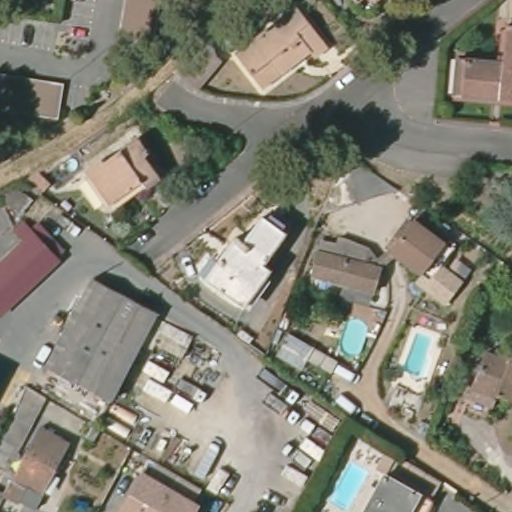pool: (402, 329, 435, 379), (327, 464, 369, 502), (342, 316, 368, 355)
